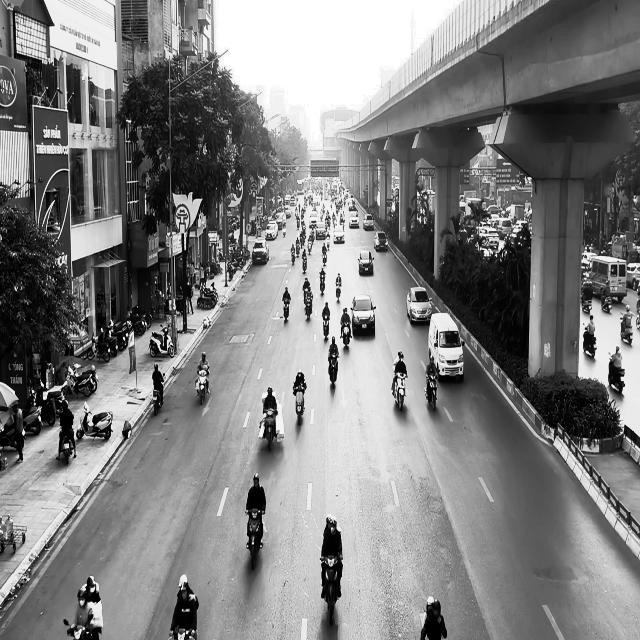car: (350, 294, 376, 334), (406, 286, 432, 324), (358, 249, 374, 275), (252, 239, 268, 265), (374, 231, 388, 251), (333, 225, 344, 243), (363, 213, 374, 230), (349, 210, 359, 228)
motorbike: (320, 551, 343, 625), (76, 400, 113, 440), (258, 402, 284, 451), (245, 508, 265, 570), (149, 321, 175, 358), (608, 352, 625, 394), (391, 367, 407, 411), (59, 425, 76, 464), (424, 366, 438, 411), (152, 373, 166, 415), (292, 383, 306, 424), (195, 367, 209, 405), (582, 323, 597, 357), (619, 315, 633, 345), (328, 352, 339, 387), (303, 290, 313, 320), (341, 320, 352, 347), (282, 297, 290, 322), (322, 314, 330, 339), (319, 269, 325, 293), (335, 281, 341, 300)
